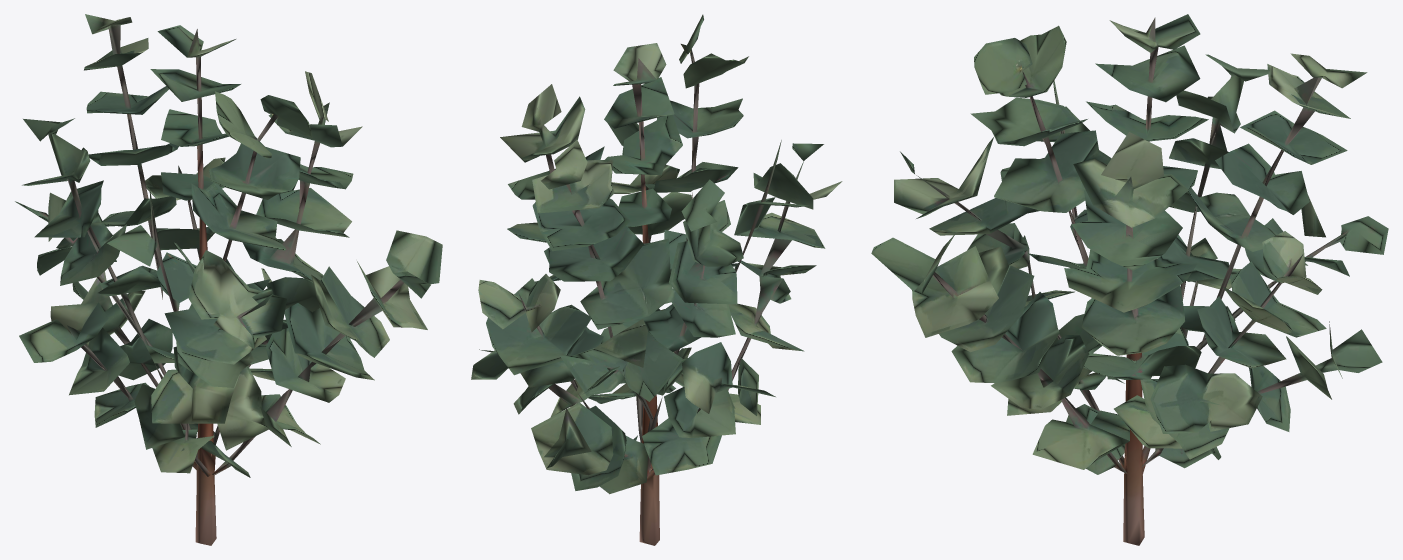
Rendered from 妗夋爲.glb.
The picture shows the model from 3 angles, left to right: view 1: azimuth 30°, elevation 25°; view 2: azimuth 150°, elevation 25°; view 3: azimuth 270°, elevation 25°; orthographic projection. The views are drawn at different scales.
Visible parts, largest first — view 1: tripo_node_4473ee2d-c9cb-4eac-91da-5e90c9db044c; view 2: tripo_node_4473ee2d-c9cb-4eac-91da-5e90c9db044c; view 3: tripo_node_4473ee2d-c9cb-4eac-91da-5e90c9db044c.
Part boxes in pixels (box(x1,y1,x2,y2)): tripo_node_4473ee2d-c9cb-4eac-91da-5e90c9db044c: box(15, 14, 442, 545); tripo_node_4473ee2d-c9cb-4eac-91da-5e90c9db044c: box(471, 14, 842, 545); tripo_node_4473ee2d-c9cb-4eac-91da-5e90c9db044c: box(871, 14, 1388, 545).
Size of the model in its own units: 0.6382 by 1 by 0.8919.
Materials: 1 (1 with a texture image).
